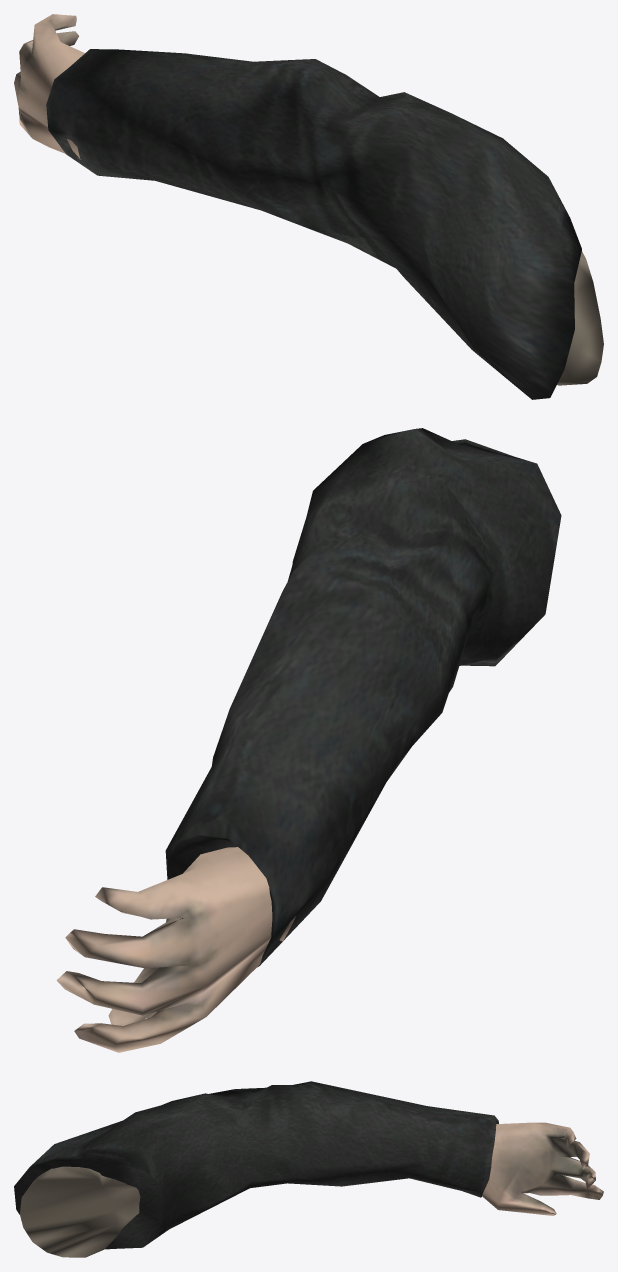
Rendered from dest_nt_nuked_male_01_arm_right_LOD1.obj.
The picture shows the model from 3 angles, top to bottom: view 1: azimuth 30°, elevation 25°; view 2: azimuth 150°, elevation 25°; view 3: azimuth 270°, elevation 25°; orthographic projection. The views are drawn at different scales.
Parts seen in each view (by area): view 1: mtl_nt_2020_manne_male01_jacket1, mtl_nt_2020_manne_male01_head1; view 2: mtl_nt_2020_manne_male01_jacket1, mtl_nt_2020_manne_male01_head1; view 3: mtl_nt_2020_manne_male01_jacket1, mtl_nt_2020_manne_male01_head1.
Boxes of the visible parts, bbox=[...] form: mtl_nt_2020_manne_male01_jacket1: bbox=[46, 49, 581, 399]; mtl_nt_2020_manne_male01_head1: bbox=[14, 14, 603, 385]; mtl_nt_2020_manne_male01_jacket1: bbox=[165, 428, 561, 967]; mtl_nt_2020_manne_male01_head1: bbox=[56, 847, 295, 1052]; mtl_nt_2020_manne_male01_jacket1: bbox=[14, 1081, 498, 1249]; mtl_nt_2020_manne_male01_head1: bbox=[20, 1122, 603, 1257].
Bounding box in the file's own units: 21.04 × 20.6 × 73.97.
